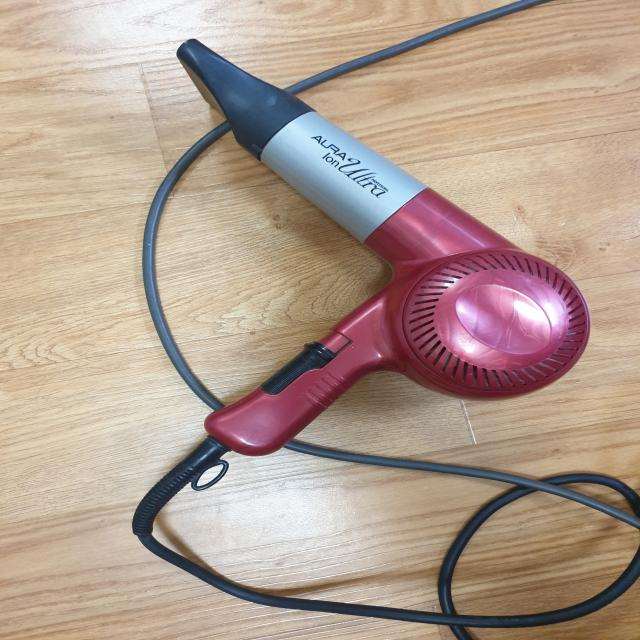dryer: (130, 36, 592, 536)
